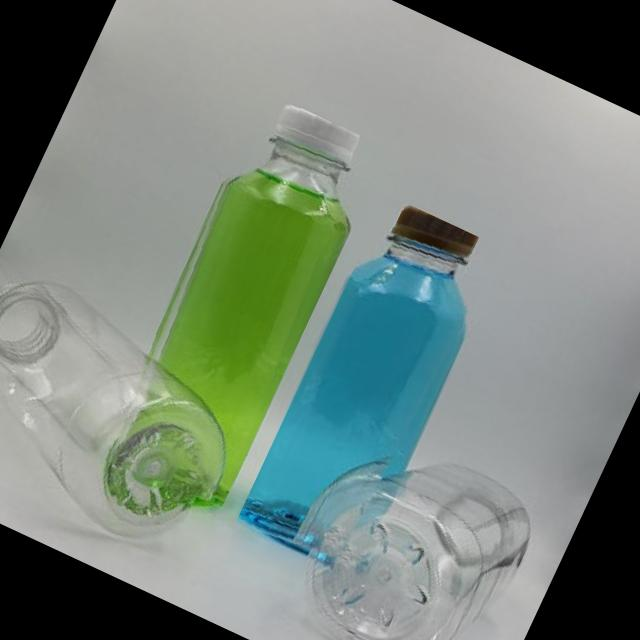plastic bottle: (92, 90, 389, 514), (235, 196, 504, 580), (0, 259, 252, 563)
